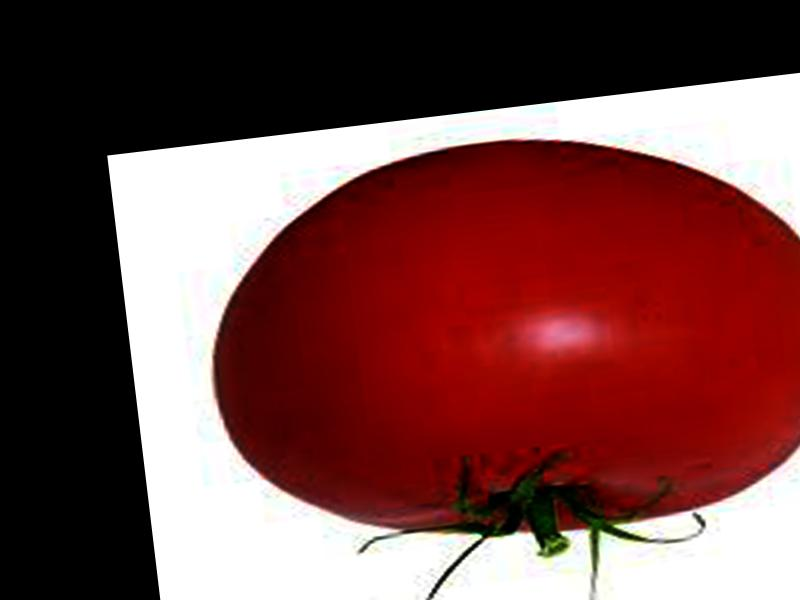Tomato: (195, 106, 800, 568)
